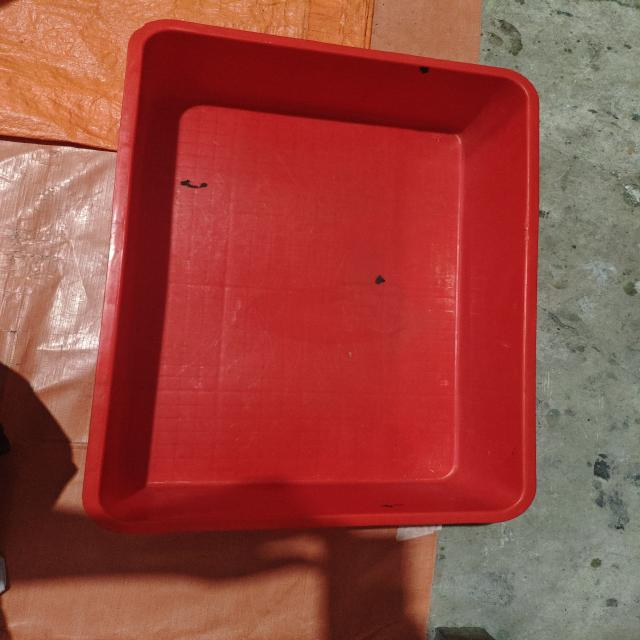red plastic box: (82, 19, 540, 534)
